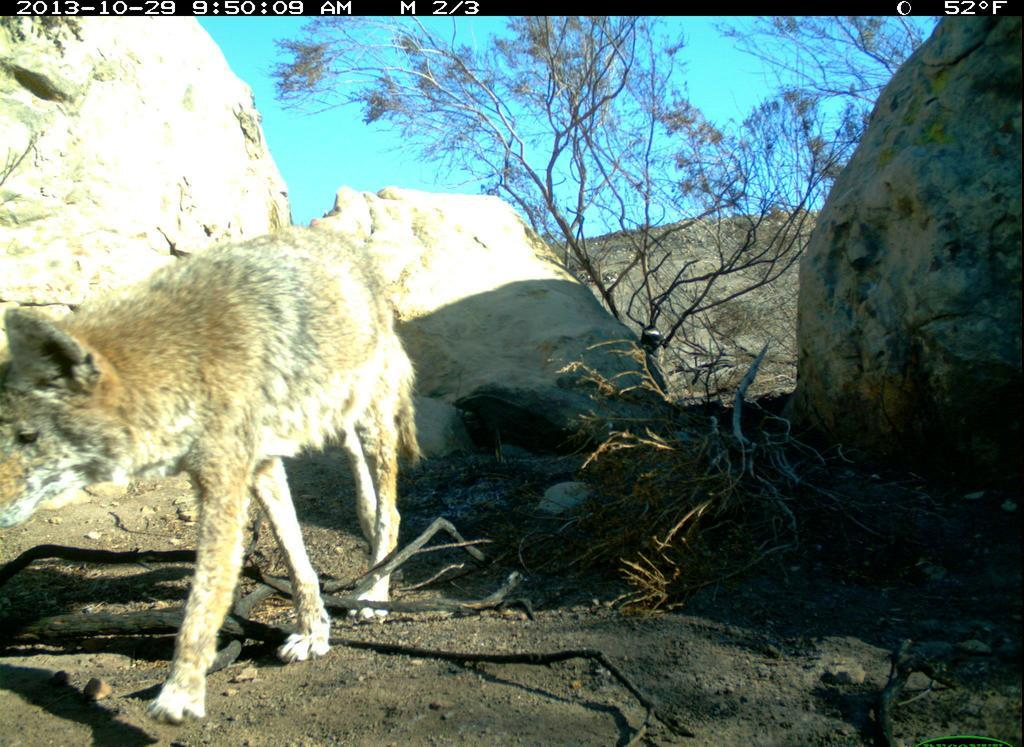coyote: (3, 222, 434, 731)
